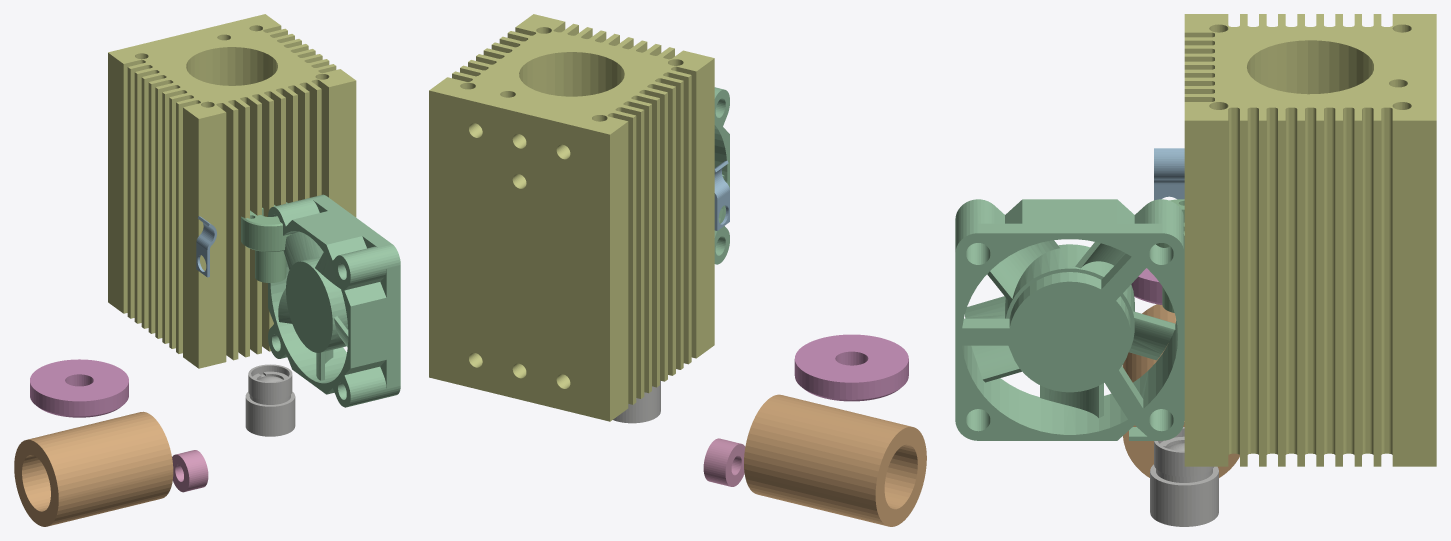
File: case-04_gpt54mini.glb
3 renders of one model, left to right at view 1: azimuth 30°, elevation 25°; view 2: azimuth 150°, elevation 25°; view 3: azimuth 270°, elevation 25°, orthographic. The views are drawn at different scales.
Visible parts, largest first — view 1: c00001, c00008, c00003, c00002, c00005, c00004, c00007, c00006; view 2: c00001, c00003, c00002, c00008, c00007, c00005, c00006; view 3: c00001, c00008, c00005, c00003, c00006, c00002.
Part boxes in pixels (left/top/right/bottom): c00001: left=108, top=14, right=356, bottom=368; c00008: left=268, top=194, right=400, bottom=407; c00003: left=14, top=411, right=173, bottom=526; c00002: left=30, top=359, right=128, bottom=417; c00005: left=245, top=364, right=295, bottom=436; c00004: left=241, top=202, right=291, bottom=282; c00007: left=172, top=450, right=208, bottom=492; c00006: left=196, top=216, right=216, bottom=277; c00001: left=429, top=14, right=714, bottom=421; c00003: left=744, top=394, right=926, bottom=526; c00002: left=794, top=334, right=908, bottom=401; c00008: left=714, top=87, right=729, bottom=264; c00007: left=703, top=438, right=745, bottom=486; c00005: left=613, top=380, right=660, bottom=423; c00006: left=714, top=160, right=729, bottom=230; c00001: left=1184, top=14, right=1436, bottom=466; c00008: left=955, top=199, right=1184, bottom=440; c00005: left=1150, top=427, right=1218, bottom=526; c00003: left=1122, top=304, right=1239, bottom=477; c00006: left=1154, top=148, right=1184, bottom=200; c00002: left=1131, top=268, right=1162, bottom=304.
Bounding box in the file's own units: 67 × 73.5 × 63.
